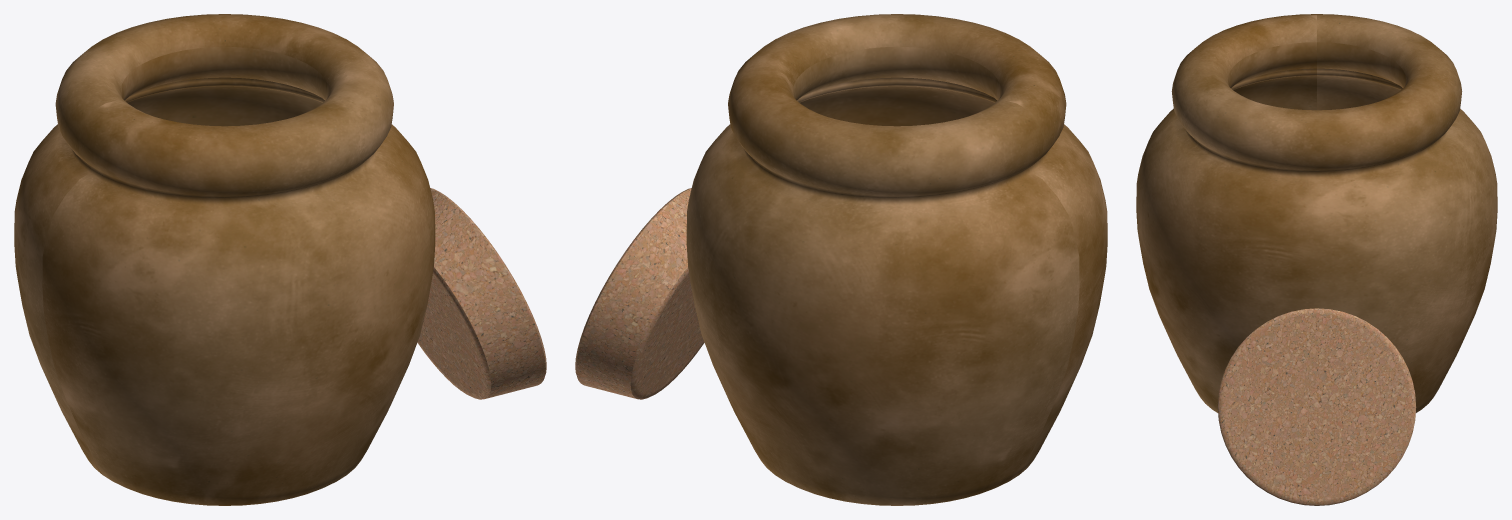
Rendered from honey_pot.glb.
The picture shows the model from 3 angles, left to right: view 1: azimuth 30°, elevation 25°; view 2: azimuth 150°, elevation 25°; view 3: azimuth 270°, elevation 25°; orthographic projection. The views are drawn at different scales.
Parts seen in each view (by area): view 1: HoneyPot, HoneyPotCork; view 2: HoneyPot, HoneyPotCork; view 3: HoneyPot, HoneyPotCork.
Part boxes in pixels (<box>): HoneyPot: <box>14,14,435,505</box>; HoneyPotCork: <box>417,188,546,399</box>; HoneyPot: <box>686,14,1107,505</box>; HoneyPotCork: <box>575,188,704,399</box>; HoneyPot: <box>1136,14,1497,412</box>; HoneyPotCork: <box>1217,308,1416,505</box>.
Bounding box in the file's own units: 0.1728 × 0.1313 × 0.1335.
2 materials, 2 textured.
